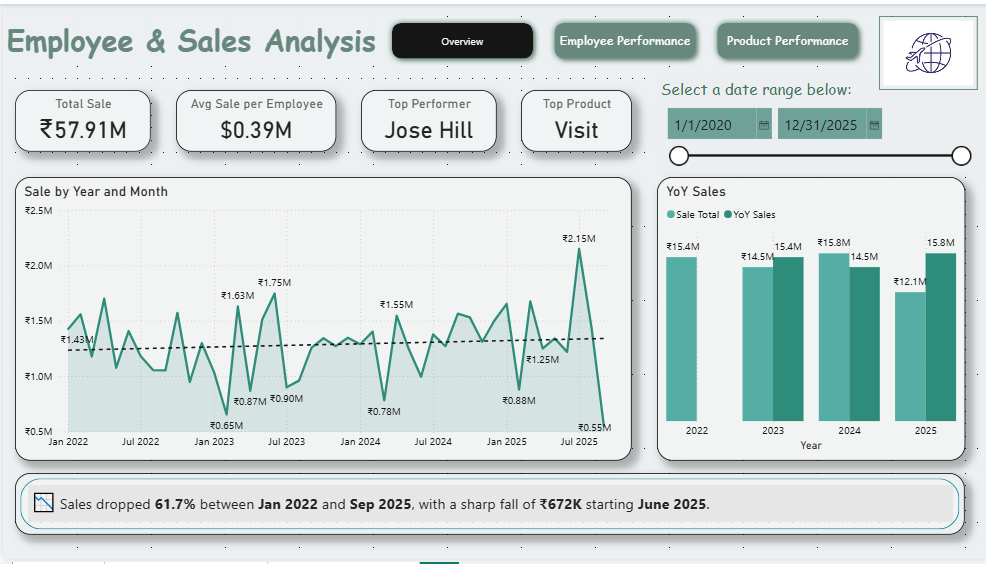

This screenshot's page, from the dashboard's own definition file:
{"tool":"powerbi","page":{"name":"Overview","canvas":[1280,720],"ordinal":0},"visuals":[{"type":"shape","box":[16,608,1232,80],"z":0},{"type":"card","title":"Total Sale","fields":{"Values":["SalesImmi.Sale Total"]},"box":[16,112,176,80],"z":1000},{"type":"card","title":"Avg Sale per Employee","fields":{"Values":["SalesImmi.AvgSalePerEmployee"]},"box":[224,112,208,80],"z":2000},{"type":"card","title":"Top Performer","fields":{"Values":["EmployeesImmi.Emp_Name"]},"box":[464,112,176,80],"z":3000},{"type":"card","title":"Top Product","fields":{"Values":["SalesImmi.Top Product"]},"box":[672,112,144,80],"z":4000},{"type":"textbox","box":[0,16,496,48],"z":5000},{"type":"slicer","title":"Select a date range below:","fields":{"Values":["DimDate.Date"]},"box":[848,96,304,128],"z":6000},{"type":"areaChart","title":"Sale by Year and Month","fields":{"Category":["DimDate.Year"],"Y":["SalesImmi.Sale Total"]},"box":[16,224,800,368],"z":7000},{"type":"textbox","box":[32,624,1200,48],"z":8000},{"type":"lineClusteredColumnComboChart","title":"YoY Sales","fields":{"Category":["DimDate.Year"],"Y":["MeasuresAll.Sale Total"],"Y2":["MeasuresAll.YoY Sales"]},"box":[848,224,400,368],"z":10000},{"type":"image","box":[1136,16,128,96],"z":11000},{"type":"pageNavigator","box":[496,16,624,64],"z":12000},{"type":"actionButton","title":"Reset All","box":[1152,128,128,48],"z":12001}]}

Visuals, with their boxes in screenshot pixels (x1, y1, x2, y2), scaled from the page's 1280x720 canvas onto the 986x564 screenshot:
shape: Rect(12, 476, 961, 539)
"Total Sale" card: Rect(12, 88, 148, 150)
"Avg Sale per Employee" card: Rect(173, 88, 333, 150)
"Top Performer" card: Rect(357, 88, 493, 150)
"Top Product" card: Rect(518, 88, 629, 150)
textbox: Rect(0, 13, 382, 50)
"Select a date range below:" slicer: Rect(653, 75, 887, 175)
"Sale by Year and Month" areaChart: Rect(12, 175, 629, 464)
textbox: Rect(25, 489, 949, 526)
"YoY Sales" lineClusteredColumnComboChart: Rect(653, 175, 961, 464)
image: Rect(875, 13, 974, 88)
pageNavigator: Rect(382, 13, 863, 63)
"Reset All" actionButton: Rect(887, 100, 985, 138)
